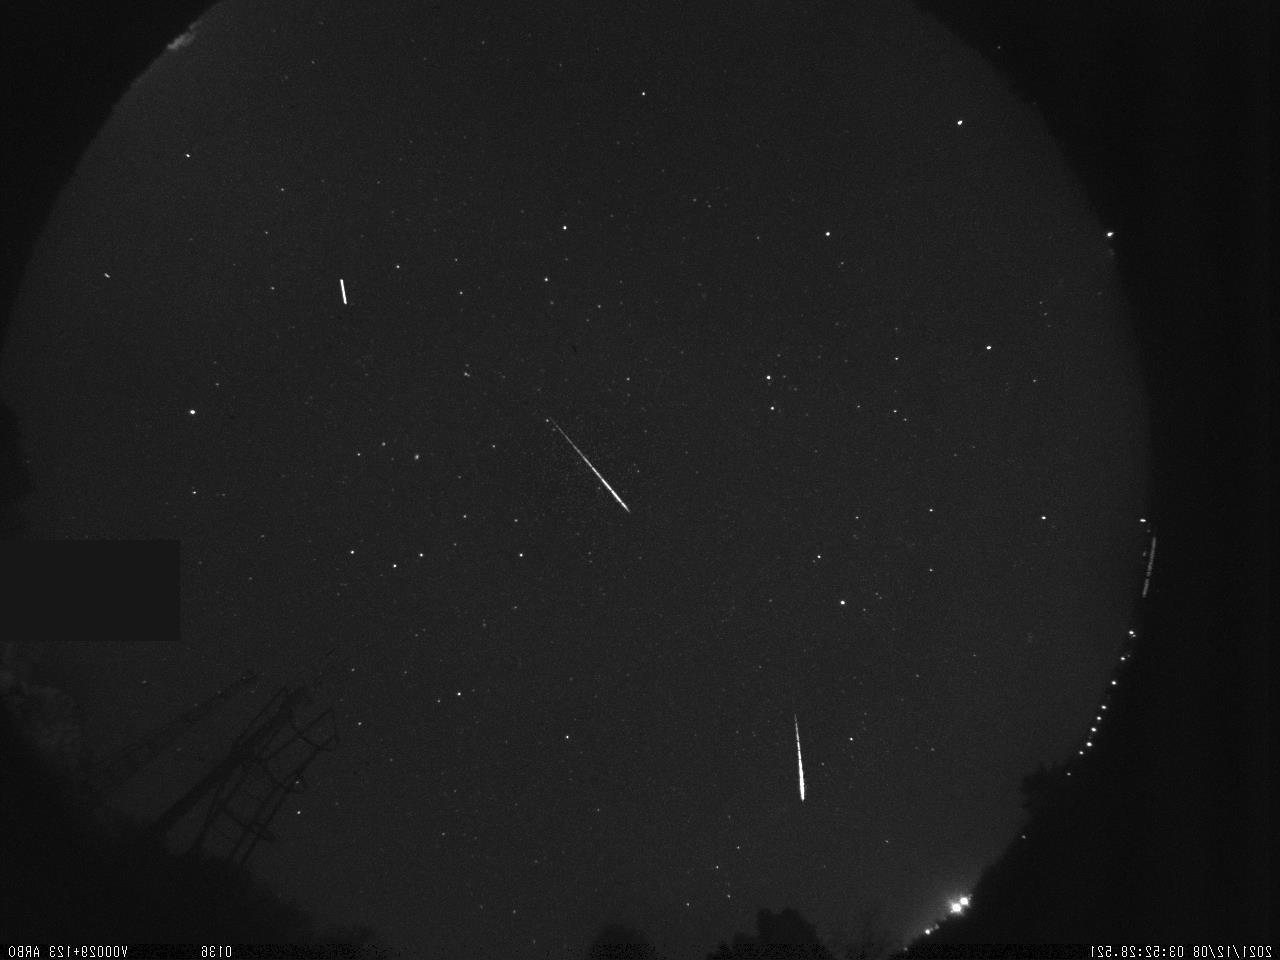meteor: (545, 403, 635, 517), (783, 700, 816, 816)
satelite: (328, 268, 361, 313)
